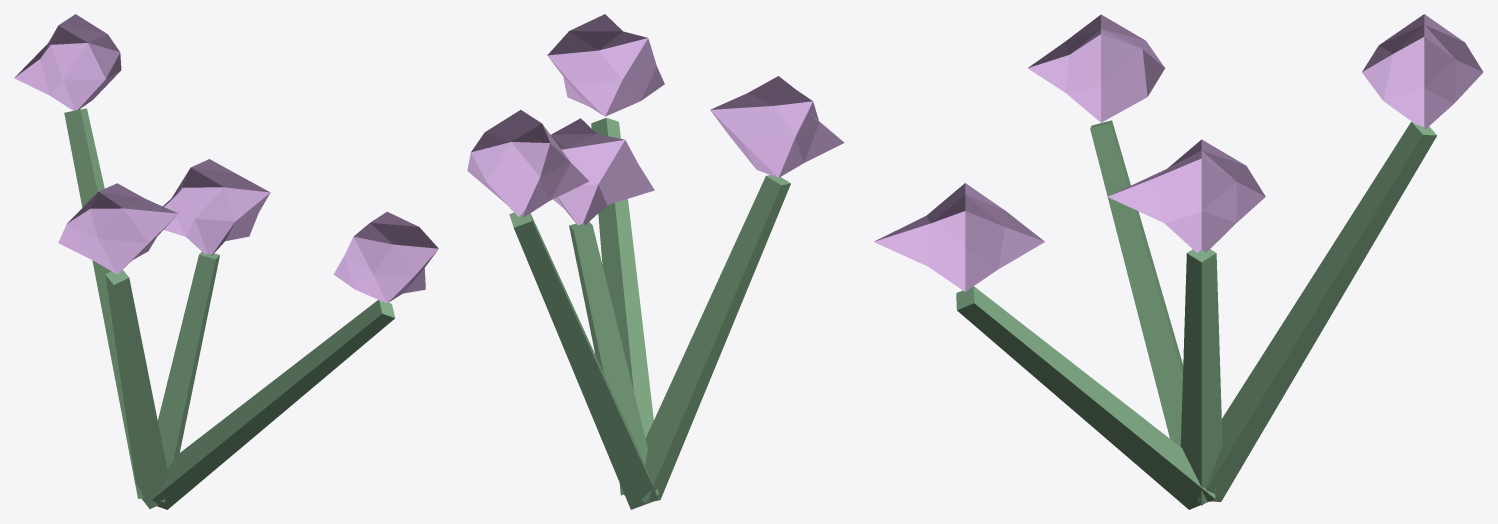
File: flower_v30.glb
3 renders of one model, left to right at view 1: azimuth 30°, elevation 25°; view 2: azimuth 150°, elevation 25°; view 3: azimuth 270°, elevation 25°, orthographic. The views are drawn at different scales.
Visible parts, largest first — view 1: lod0; view 2: lod0; view 3: lod0.
Part boxes in pixels (x1,y1,x2,y2): lod0: (14, 14, 438, 509); lod0: (467, 14, 844, 509); lod0: (874, 14, 1483, 509).
Size of what is drawn, in the model's own units: 0.3569 by 0.4446 by 0.4915.
